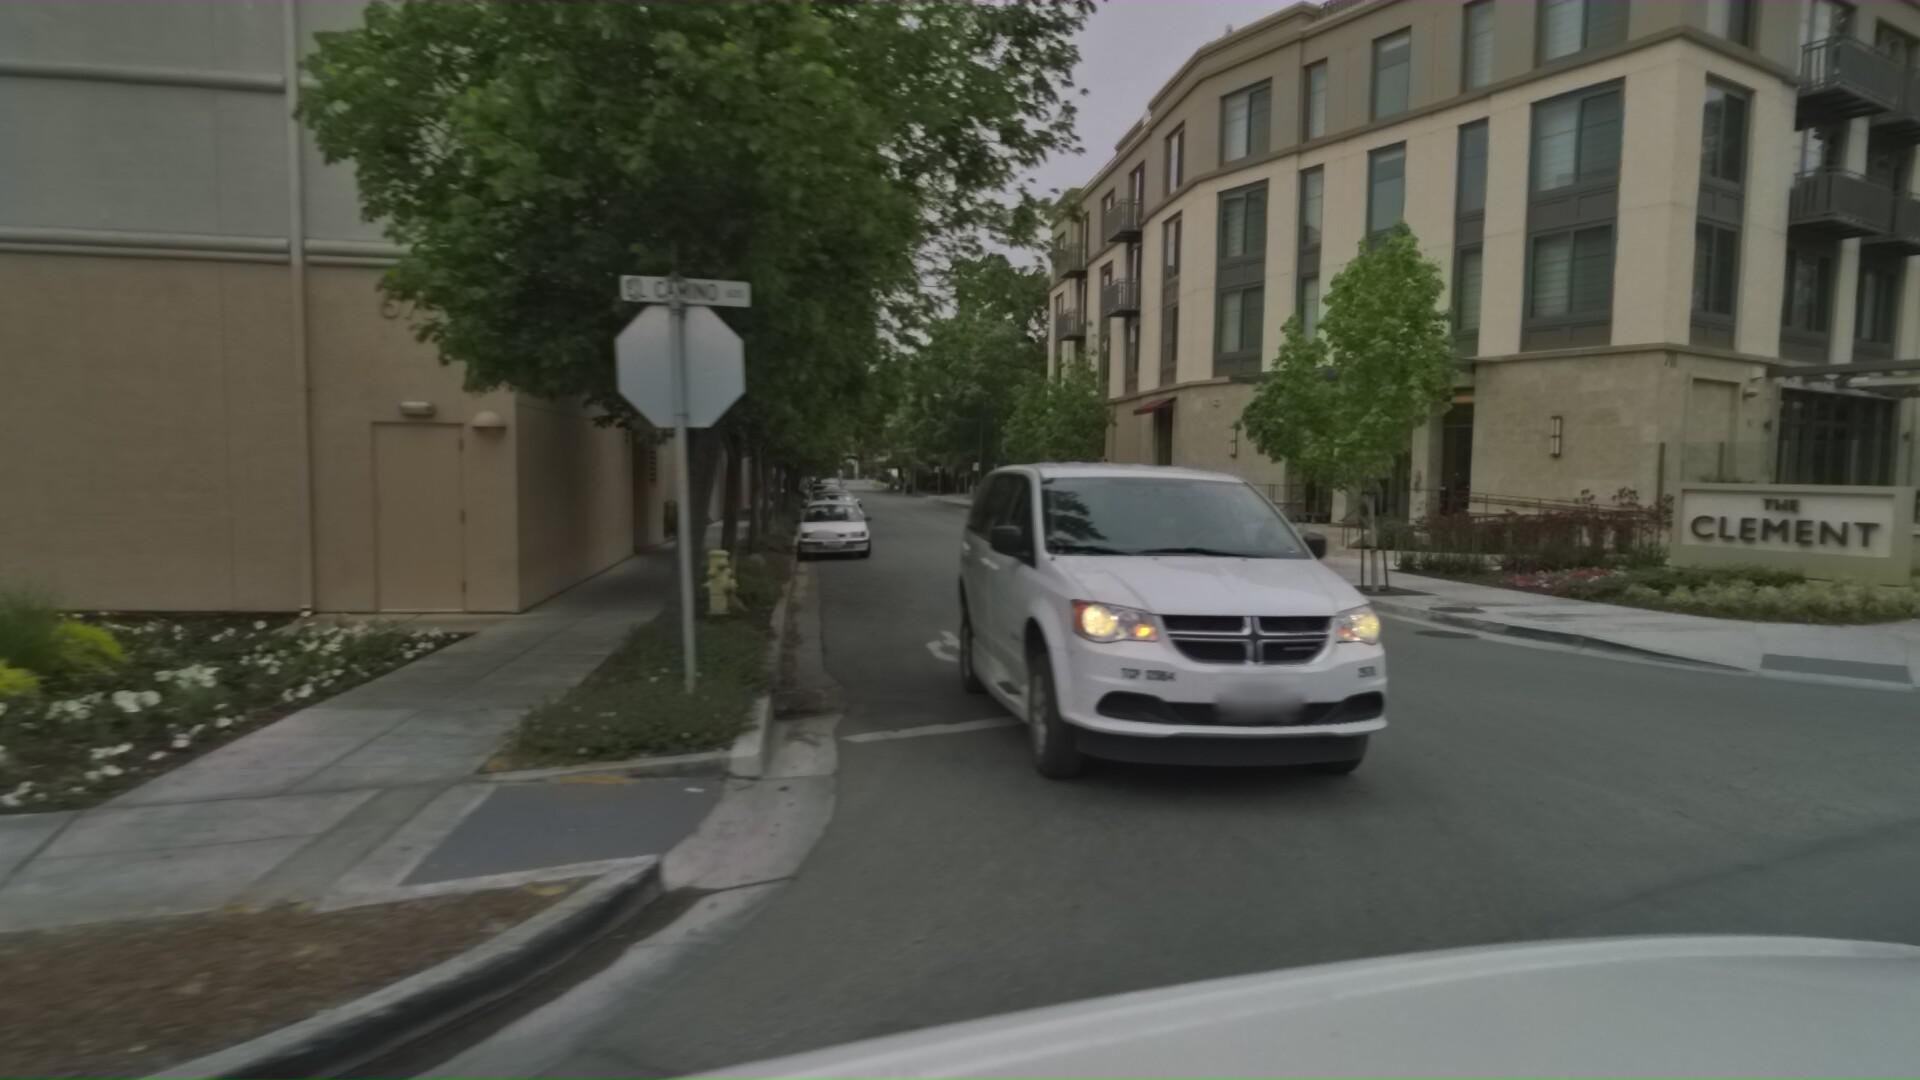car: (964, 444, 1501, 843), (814, 491, 890, 562), (812, 483, 882, 543), (815, 483, 876, 529), (811, 475, 851, 506)
